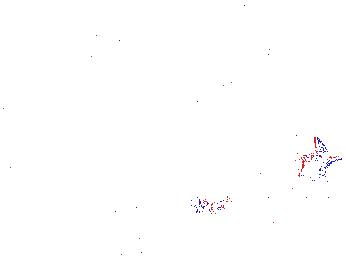flame jellyfish: (158, 161, 231, 233), (65, 155, 146, 211), (290, 136, 346, 215)
